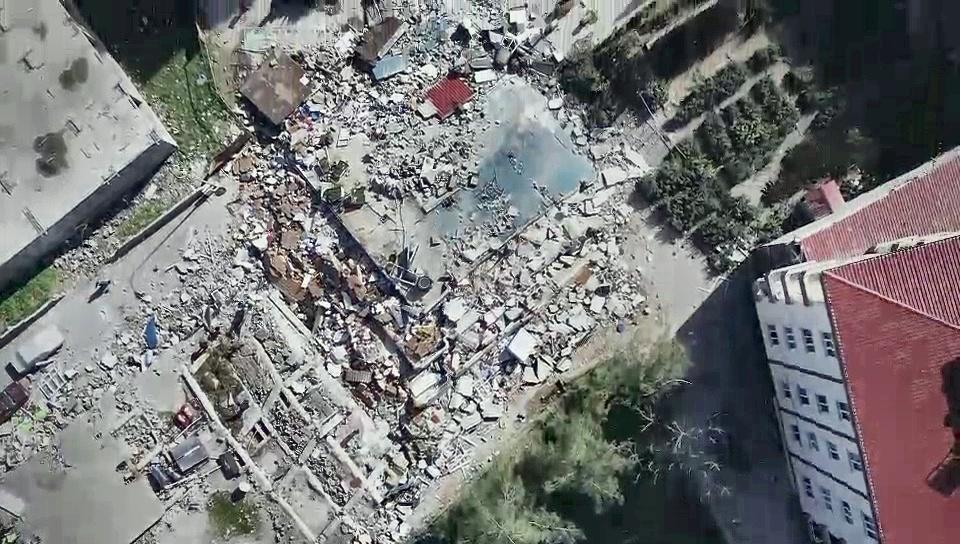kapali: (63, 0, 585, 376)
